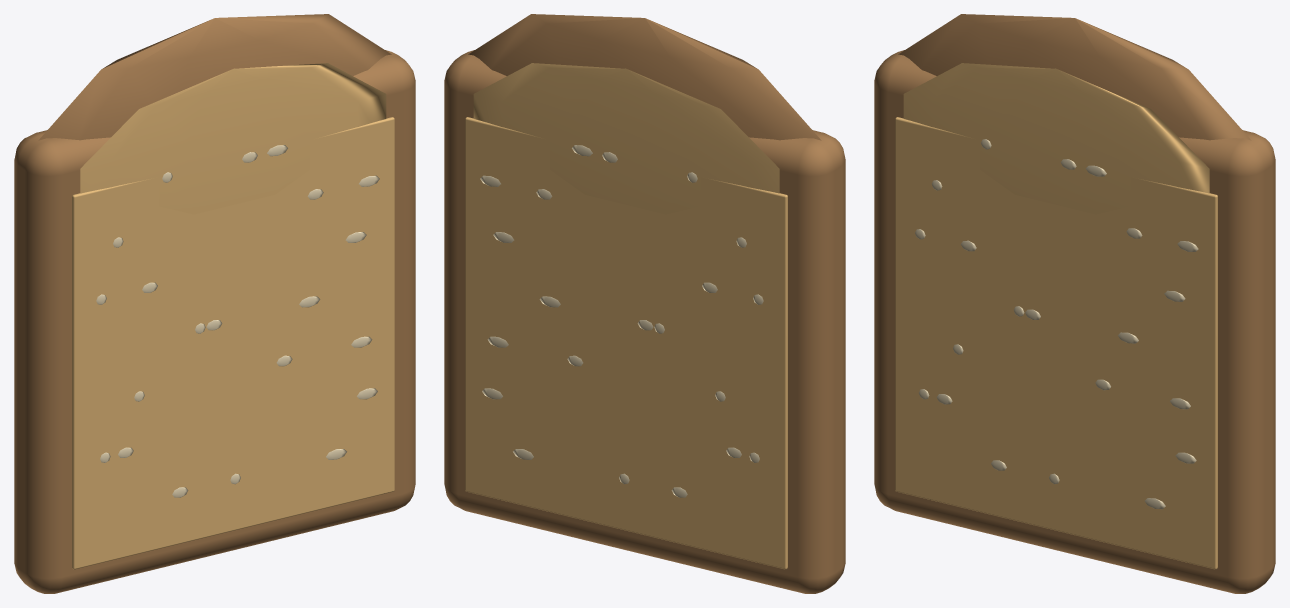
Rendered from toast-light.glb.
3 renders of one model, left to right at view 1: azimuth 30°, elevation 25°; view 2: azimuth 150°, elevation 25°; view 3: azimuth 330°, elevation 25°, orthographic.
Parts seen in each view (by area): view 1: crumb, edge, cream; view 2: crumb, edge, cream; view 3: crumb, edge, cream.
Boxes of the visible parts, x1,y1,x2,y2 form: crumb: (72,63,394,569); edge: (14,14,415,593); cream: (96,145,379,497); crumb: (465,63,787,569); edge: (444,14,845,593); cream: (480,145,763,497); crumb: (895,63,1217,569); edge: (874,14,1275,593); cream: (915,139,1198,509).
Bounding box in the file's own units: 1.3 × 1.7 × 0.2452.
